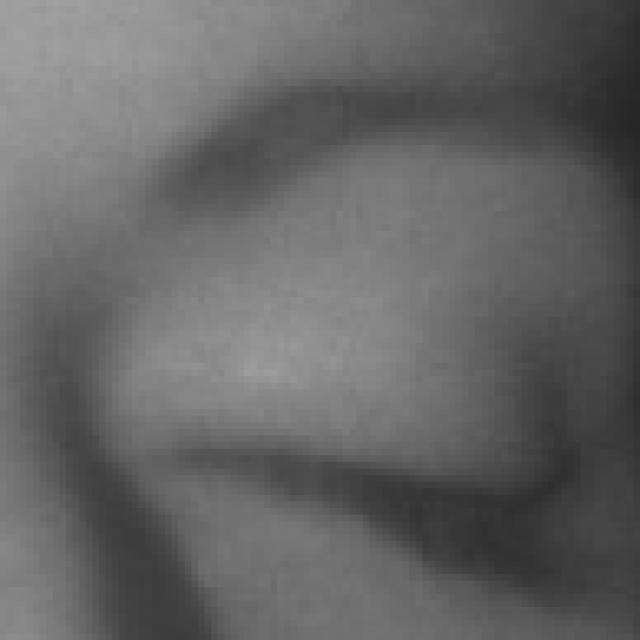Eyeclosed: (188, 286, 583, 640)
